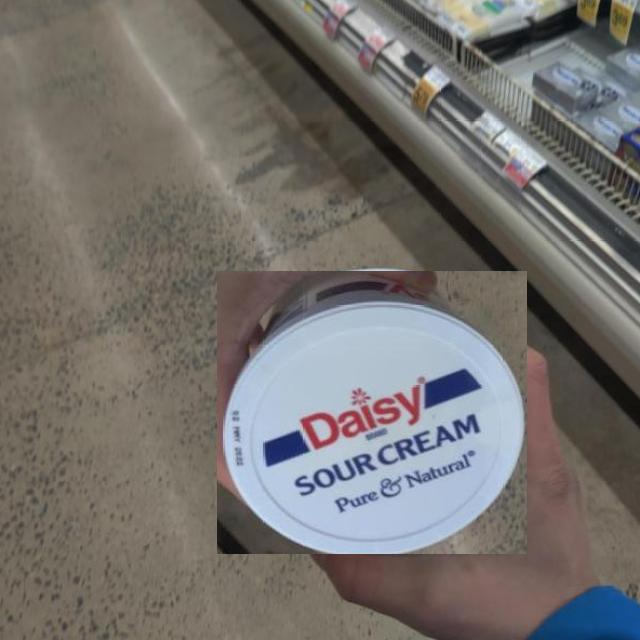Yogurt: (216, 271, 527, 554)
